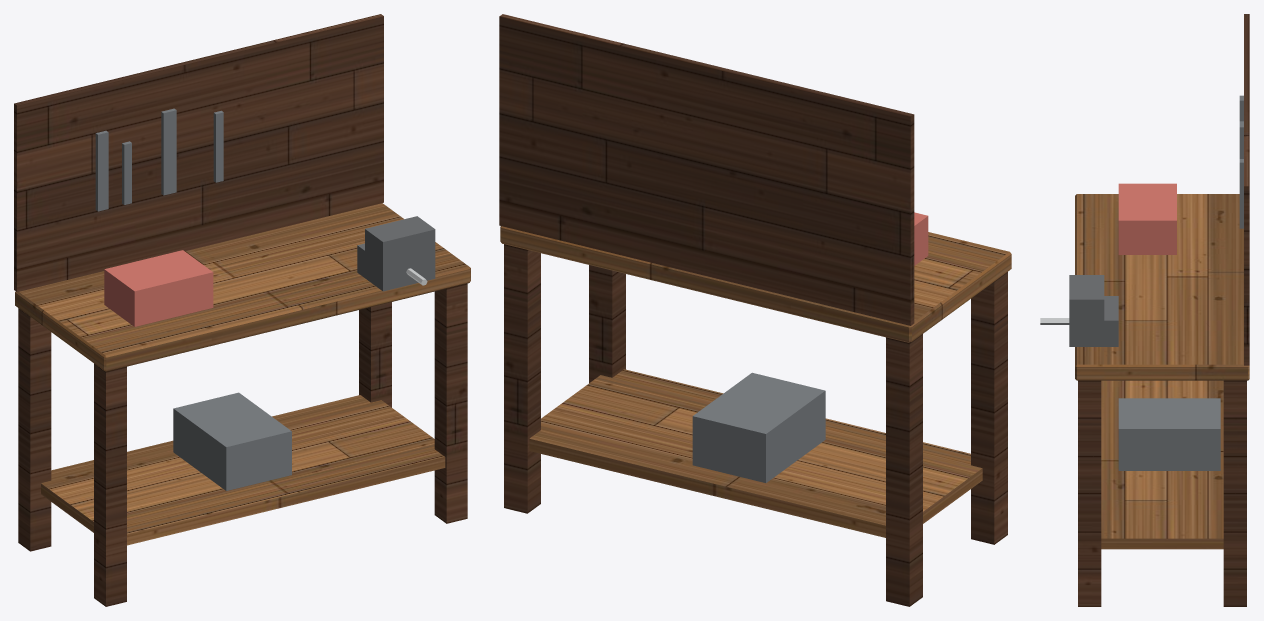
Rendered from workbench.glb.
3 views of the same model, side by side, from view 1: azimuth 30°, elevation 25°; view 2: azimuth 150°, elevation 25°; view 3: azimuth 270°, elevation 25° (orthographic). The views are drawn at different scales.
Parts seen in each view (by area): view 1: workbench_dkwood, workbench_wood, workbench_steel_d, workbench_redp, workbench_iron; view 2: workbench_dkwood, workbench_wood, workbench_steel_d, workbench_redp; view 3: workbench_wood, workbench_dkwood, workbench_steel_d, workbench_redp, workbench_iron.
Boxes of the visible parts, x1=… form: workbench_dkwood: x1=14, y1=14, x2=467, y2=606; workbench_wood: x1=15, y1=203, x2=470, y2=545; workbench_steel_d: x1=95, y1=108, x2=291, y2=490; workbench_redp: x1=104, y1=250, x2=213, y2=326; workbench_iron: x1=357, y1=216, x2=435, y2=291; workbench_dkwood: x1=499, y1=14, x2=1007, y2=606; workbench_wood: x1=500, y1=226, x2=1011, y2=537; workbench_steel_d: x1=692, y1=372, x2=825, y2=482; workbench_redp: x1=914, y1=212, x2=928, y2=265; workbench_wood: x1=1075, y1=194, x2=1249, y2=549; workbench_dkwood: x1=1078, y1=14, x2=1249, y2=606; workbench_steel_d: x1=1118, y1=95, x2=1243, y2=470; workbench_redp: x1=1118, y1=183, x2=1176, y2=254; workbench_iron: x1=1069, y1=275, x2=1118, y2=346.
Size of the model in its own units: 1.4 by 1.6 by 0.72.
Materials: 6 (2 with a texture image).
